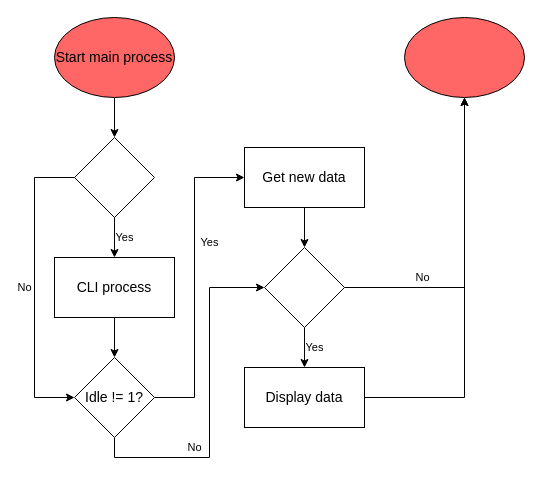
Some shapes in this 542 by 483 pixel diagram are drawn without their labels. The shapes that lost their labels are listed below. From the top down, each one's box as (x1, y1, x2, y2) in pixels, then its label:
(404, 16, 524, 98): End main process
(74, 136, 154, 218): New input?
(264, 246, 344, 328): Stream enabled?
